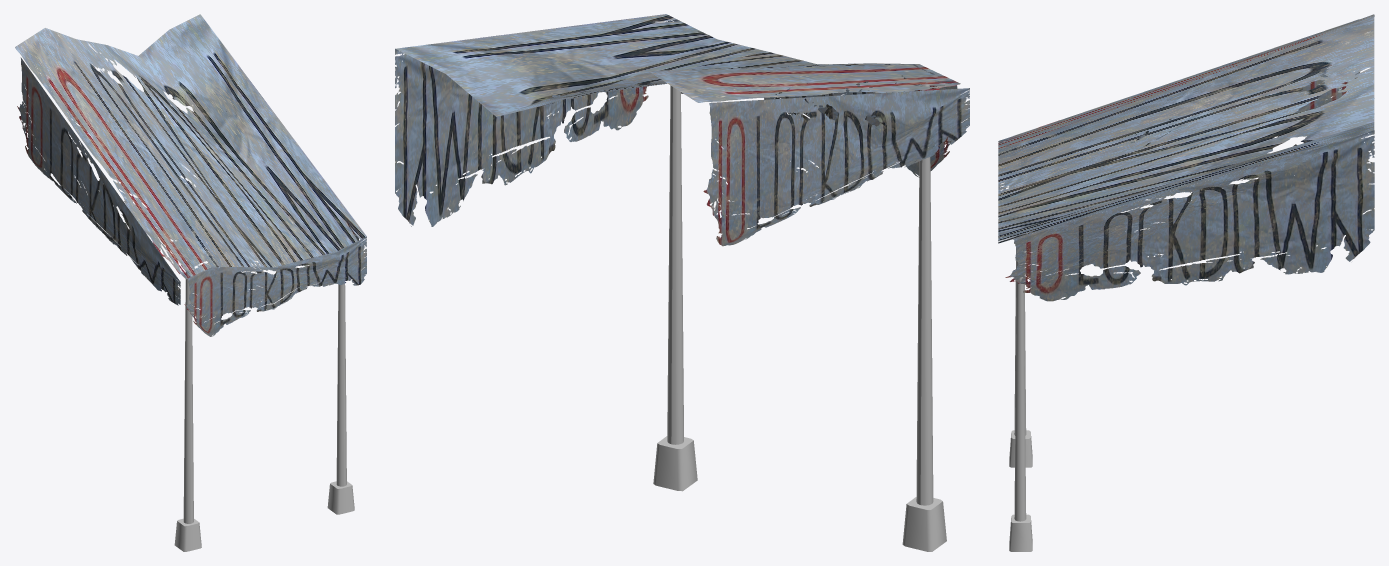
Rendered from SM_Shop_Canopy_01.FBX.
3 renders of one model, left to right at view 1: azimuth 30°, elevation 25°; view 2: azimuth 150°, elevation 25°; view 3: azimuth 270°, elevation 25°, orthographic. The views are drawn at different scales.
Visible parts, largest first — view 1: SM_Shop_Canopy_01; view 2: SM_Shop_Canopy_01; view 3: SM_Shop_Canopy_01.
Part boxes in pixels (x1,y1,x2,y2): SM_Shop_Canopy_01: (15,14,366,551); SM_Shop_Canopy_01: (395,14,969,551); SM_Shop_Canopy_01: (998,14,1374,551).
Bounding box in the file's own units: 5.29 × 10.88 × 8.19.
